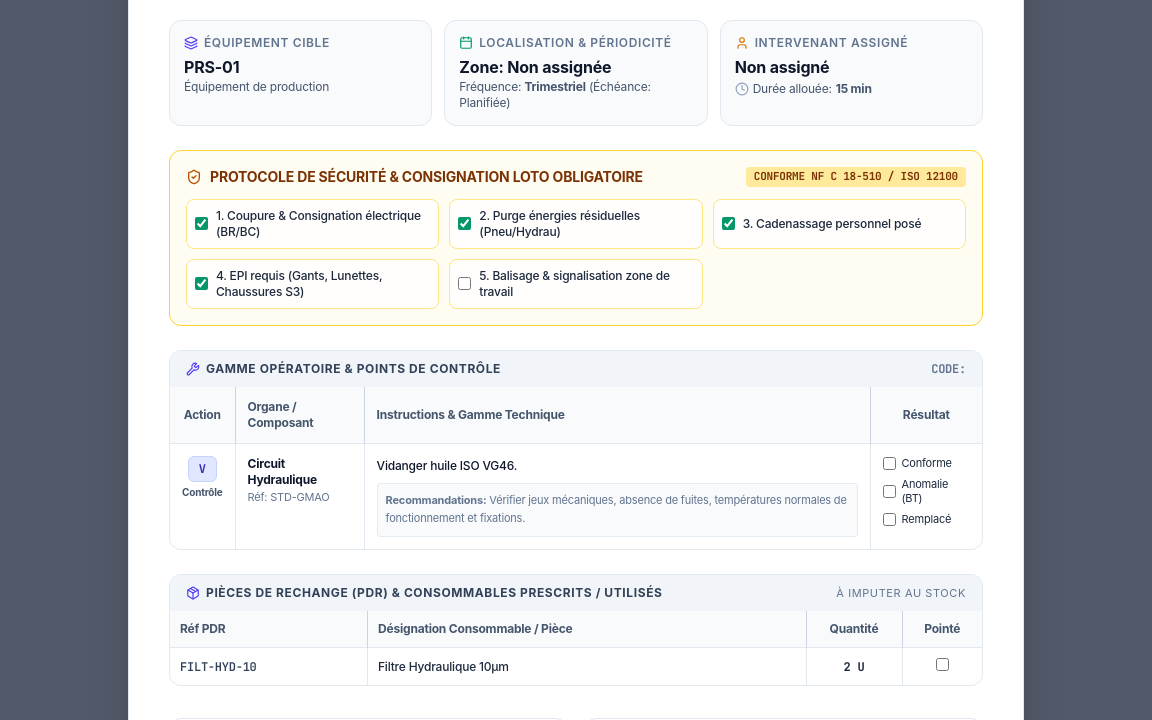
Scenario: Preventive Maintenance — Full Audit Fixes, RBAC, SOLO_EXPERT & Field Technicians › 6. PrintWorkOrderModal — PDR Resolution, LOTO Toggle, Blank Observations & SOLO_EXPERT › resolves pdr_requises, toggles LOTO once on click, avoids fake RAS text, and hides P.U in SOLO_EXPERT
Click the checkbox labelled "1. Coupure & Consignation électrique (BR/BC)" at point(202, 224), box [195,217,208,230]
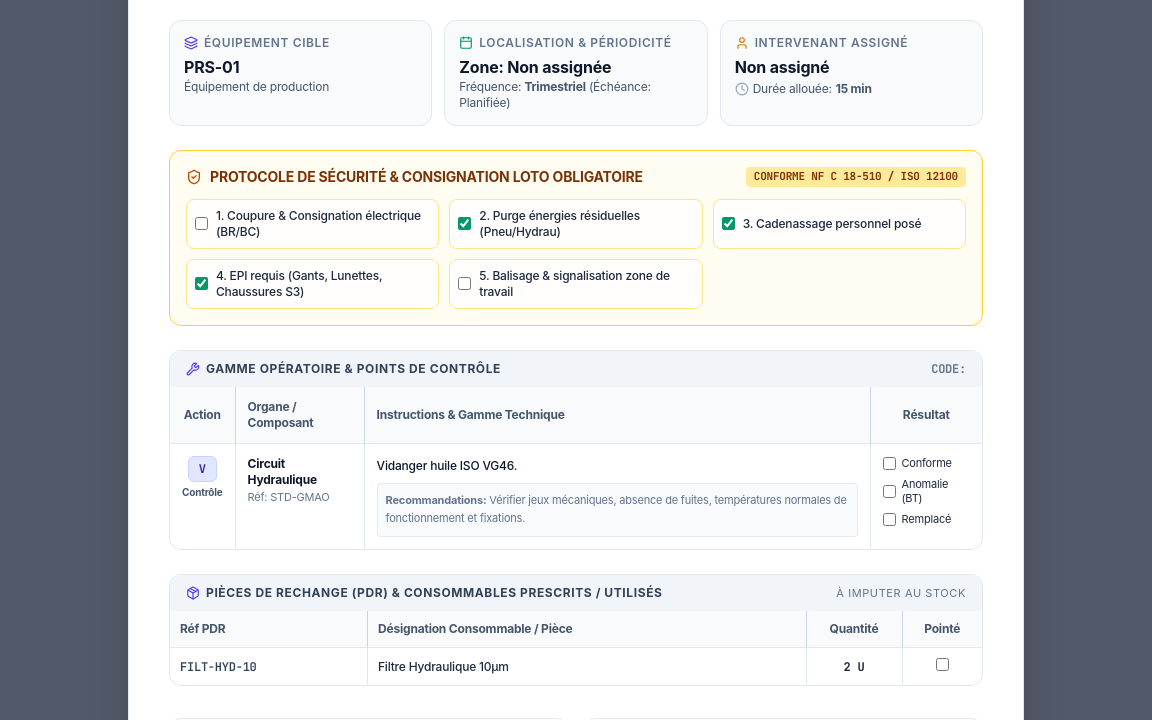
Result: the checkbox labelled "1. Coupure & Consignation électrique (BR/BC)" is not checked at [195,217,208,230]
